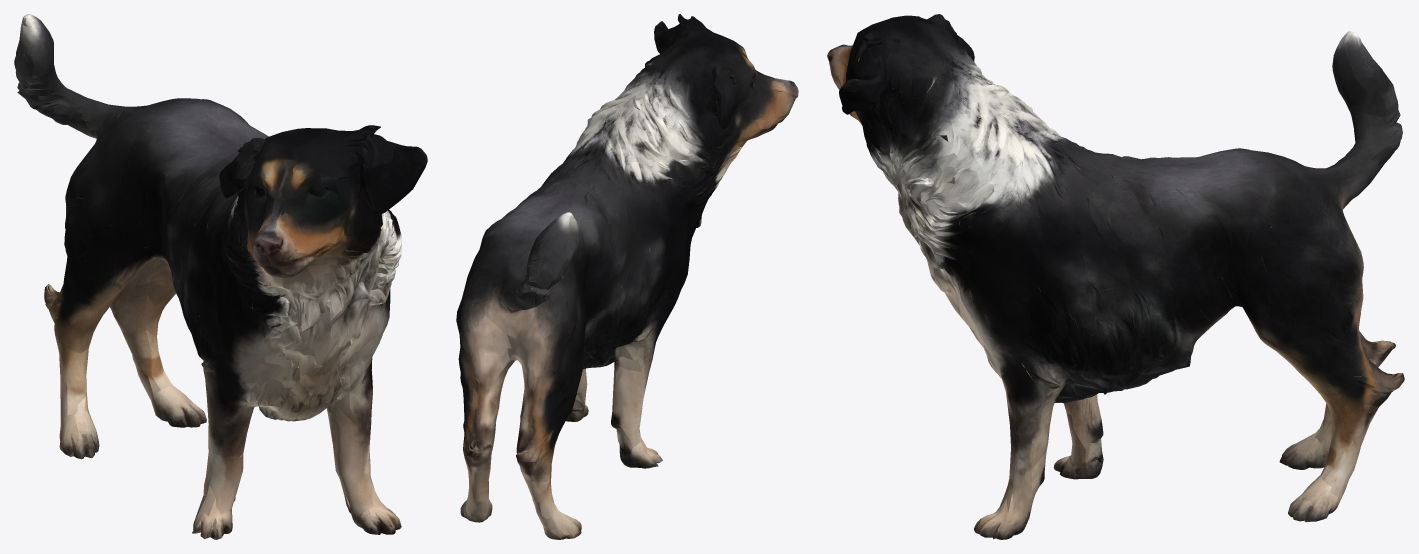
File: zero-optimizado.glb
The picture shows the model from 3 angles, left to right: view 1: azimuth 30°, elevation 25°; view 2: azimuth 150°, elevation 25°; view 3: azimuth 270°, elevation 25°; orthographic projection. The views are drawn at different scales.
Size of the model in its own units: 0.849 by 1.66 by 1.9.
1 material, 1 textured.
